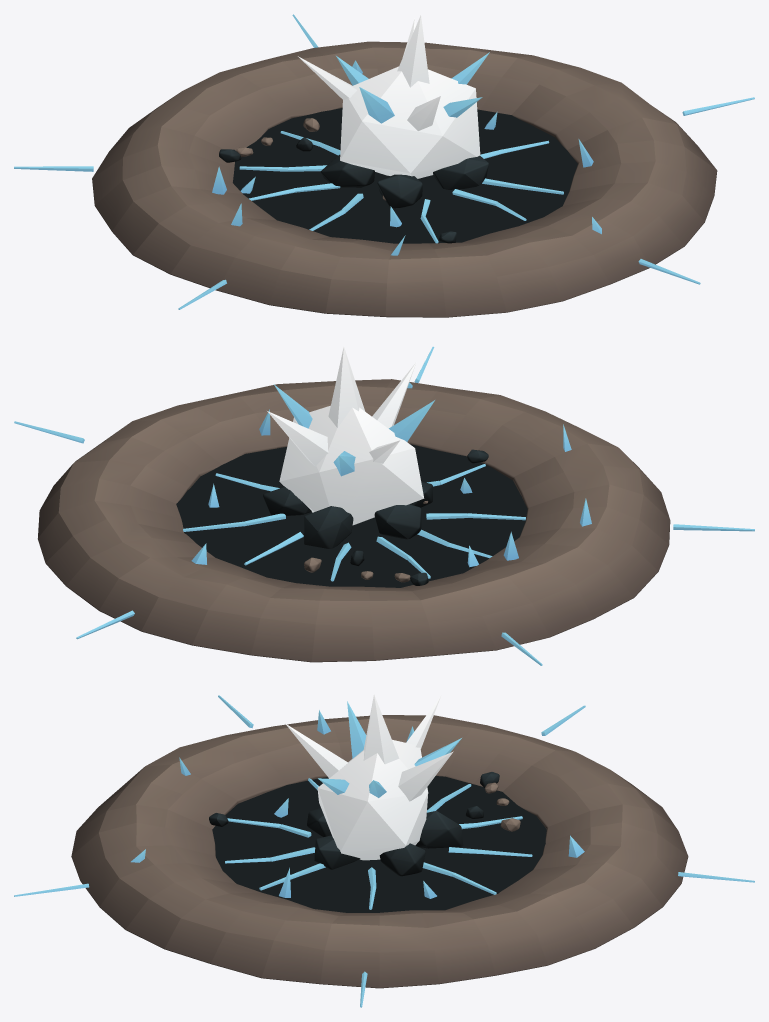
The model's file is fallen_star.glb.
3 views of the same model, one above another, from view 1: azimuth 30°, elevation 25°; view 2: azimuth 150°, elevation 25°; view 3: azimuth 270°, elevation 25° (orthographic). The views are drawn at different scales.
Visible parts, largest first — view 1: fallen_star; view 2: fallen_star; view 3: fallen_star.
Boxes of the visible parts, x1,y1,x2,y2 form: fallen_star: [14, 14, 754, 317]; fallen_star: [14, 346, 754, 665]; fallen_star: [14, 694, 754, 1007].
Size of the model in its own units: 13.17 by 3.42 by 13.26.
6 materials, 6 textured.
